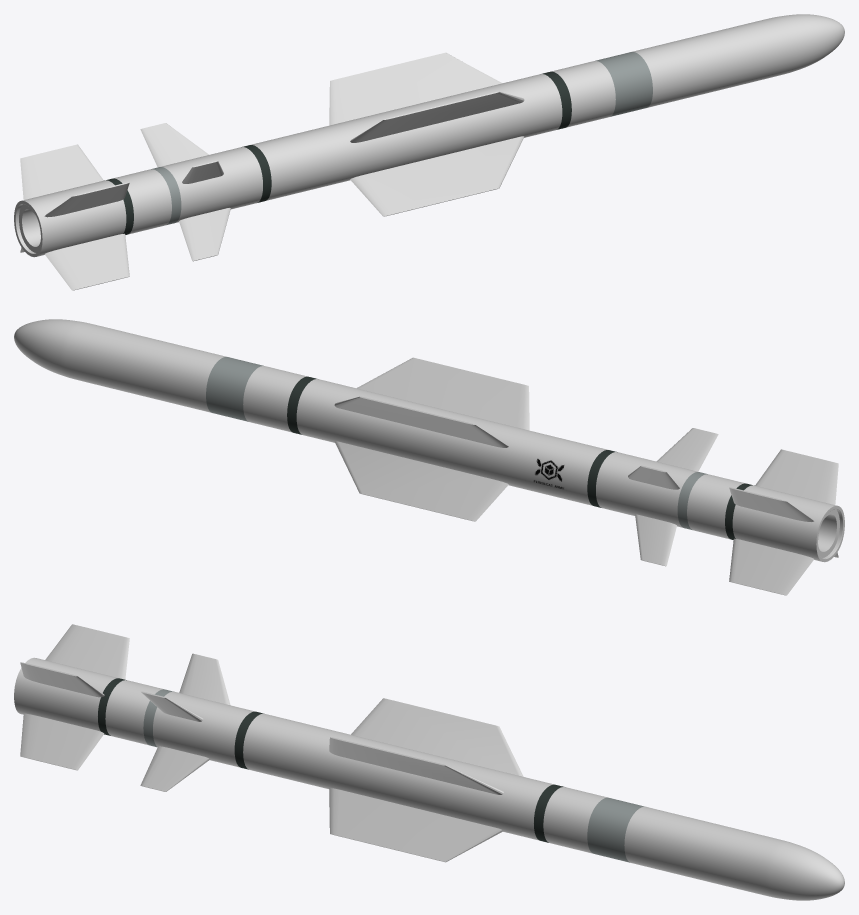
The model's file is ugm-84-harpoon.glb.
The picture shows the model from 3 angles, top to bottom: view 1: azimuth 30°, elevation 25°; view 2: azimuth 150°, elevation 25°; view 3: azimuth 330°, elevation 25°; orthographic projection.
Visible parts, largest first — view 1: UGM-84 Harpoon_0; view 2: UGM-84 Harpoon_0; view 3: UGM-84 Harpoon_0.
Boxes of the visible parts, <box> form: UGM-84 Harpoon_0: <box>14,14,844,290</box>; UGM-84 Harpoon_0: <box>14,319,844,595</box>; UGM-84 Harpoon_0: <box>14,624,844,900</box>.
Bounding box in the file's own units: 7.26 × 0.8293 × 0.8293.
3 materials, 3 textured.
